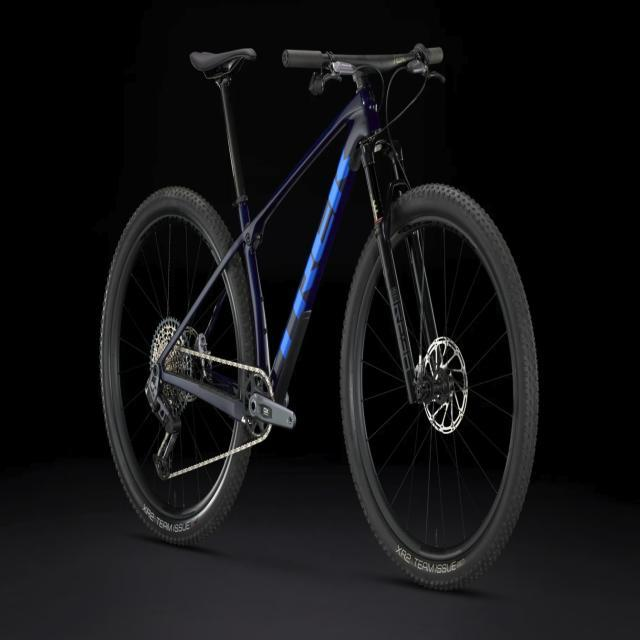bike: (98, 41, 540, 591)
